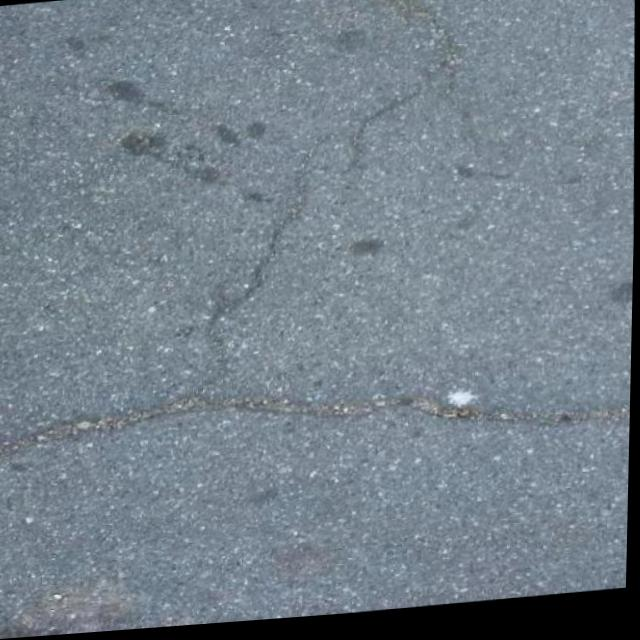Crack: (0, 350, 633, 487)
